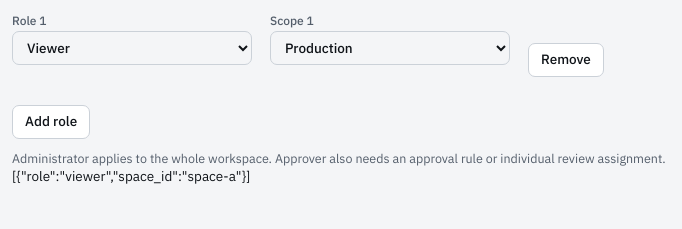
Scenario: makes a Space role workspace-wide when changed to Administrator
Select "Administrator" in the dropdown labelled "Role 1" at (132, 48), box [12,31,252,65]
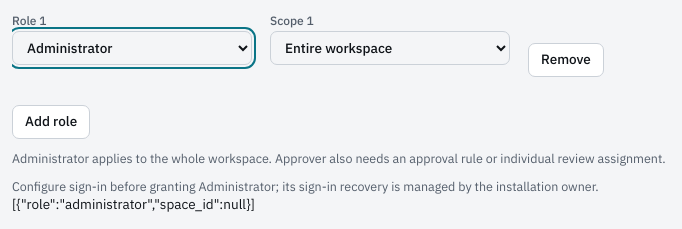
Check: the text "Administrator applies to the whole workspace" is shown, box [12,150,666,166]
Check: the dropdown labelled "Scope 1" is disabled, box [270,31,510,65]
Check: the text "[{\"role\":\"administrator\",\"space_id\":null}]" shows "\"space_id\":null", box [12,195,255,213]
